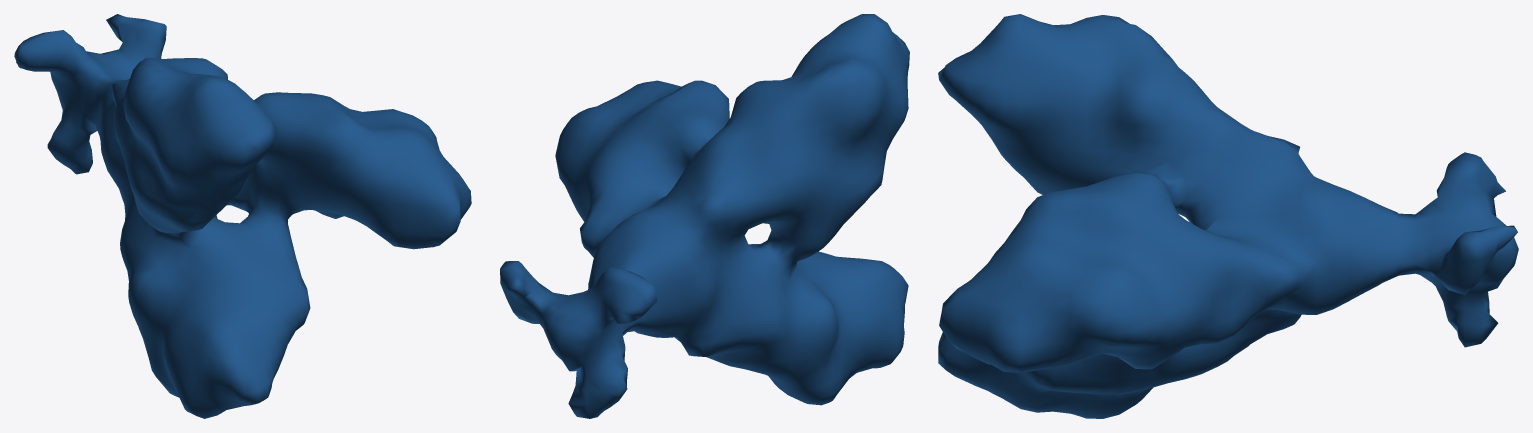
The model's file is 3DPX-011854.glb.
3 views of the same model, side by side, from view 1: azimuth 30°, elevation 25°; view 2: azimuth 150°, elevation 25°; view 3: azimuth 270°, elevation 25° (orthographic). The views are drawn at different scales.
Parts seen in each view (by area): view 1: surface; view 2: surface; view 3: surface.
Boxes of the visible parts, bbox=[...] form: surface: bbox=[14, 14, 471, 418]; surface: bbox=[500, 14, 909, 418]; surface: bbox=[938, 14, 1518, 418].
Size of the model in its own units: 98.21 by 108 by 145.
